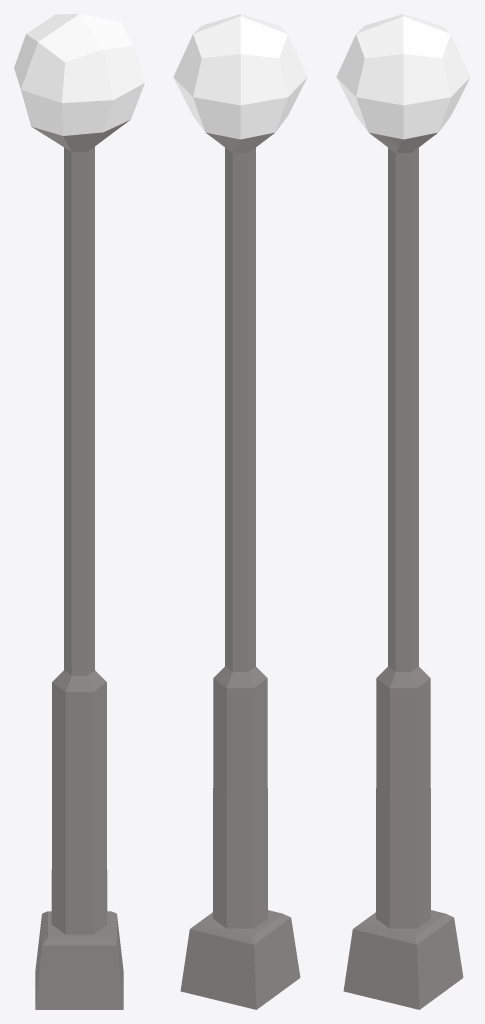
Rendered from lamp-city.glb.
The picture shows the model from 3 angles, left to right: view 1: azimuth 90°, elevation 25°; view 2: azimuth 150°, elevation 25°; view 3: azimuth 330°, elevation 25°; orthographic projection.
Parts seen in each view (by area): view 1: lamp-city; view 2: lamp-city; view 3: lamp-city.
Part boxes in pixels (left/top/right/bottom): lamp-city: left=14, top=14, right=144, bottom=1009; lamp-city: left=173, top=14, right=307, bottom=1009; lamp-city: left=336, top=14, right=470, bottom=1009.
Size of the model in its own units: 0.8121 by 6.69 by 0.8121.
Materials: 1 (1 with a texture image).
